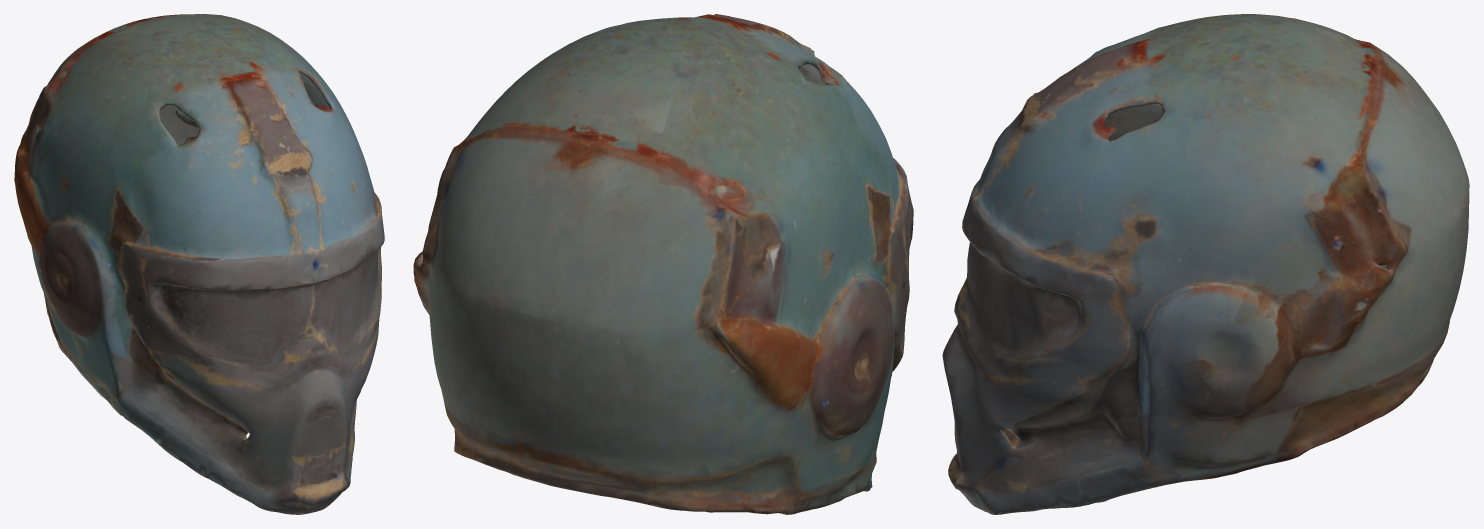
The model's file is meshy_01971c30-7b64-751d-9928-e8d4f236f245.glb.
The picture shows the model from 3 angles, left to right: view 1: azimuth 30°, elevation 25°; view 2: azimuth 150°, elevation 25°; view 3: azimuth 270°, elevation 25°; orthographic projection. The views are drawn at different scales.
Parts seen in each view (by area): view 1: file1; view 2: file1; view 3: file1.
Boxes of the visible parts, bbox=[...] form: file1: bbox=[14, 14, 384, 514]; file1: bbox=[413, 14, 913, 514]; file1: bbox=[942, 14, 1469, 514].
Size of the model in its own units: 1.5 by 1.95 by 2.
1 material, 1 textured.
